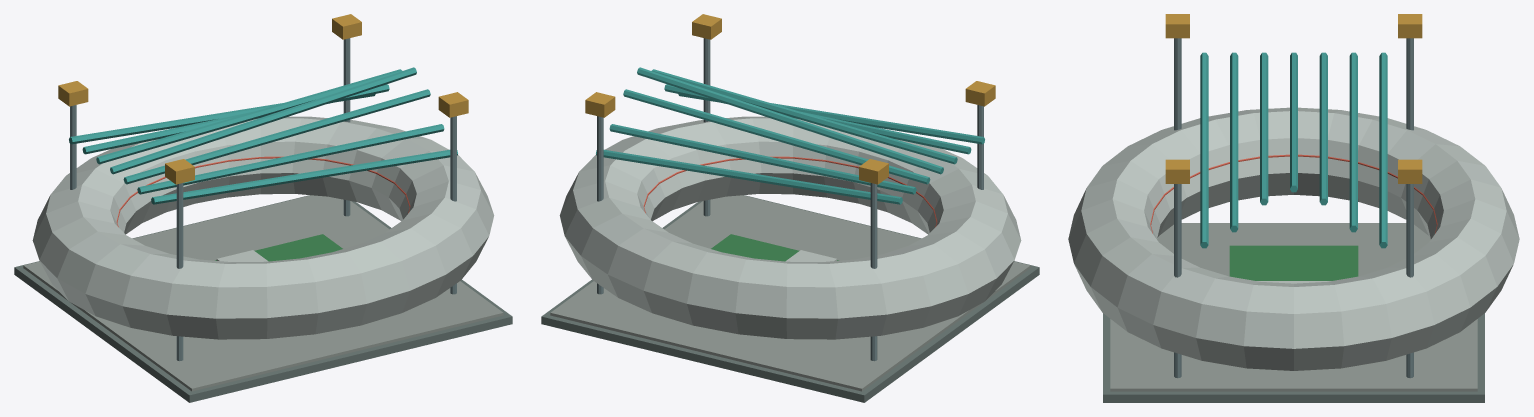
Rendered from stadium_lv4.glb.
3 renders of one model, left to right at view 1: azimuth 30°, elevation 25°; view 2: azimuth 150°, elevation 25°; view 3: azimuth 270°, elevation 25°, orthographic. The views are drawn at different scales.
Parts seen in each view (by area): view 1: rough, metallic; view 2: rough, metallic; view 3: rough, metallic.
Boxes of the visible parts, x1=… form: rough: x1=14, y1=14, x2=512, y2=402; metallic: x1=70, y1=38, x2=456, y2=361; rough: x1=541, y1=14, x2=1039, y2=402; metallic: x1=597, y1=38, x2=983, y2=361; rough: x1=1068, y1=14, x2=1519, y2=402; metallic: x1=1174, y1=38, x2=1413, y2=378.
Bounding box in the file's own units: 12.51 × 5.99 × 10.88.
